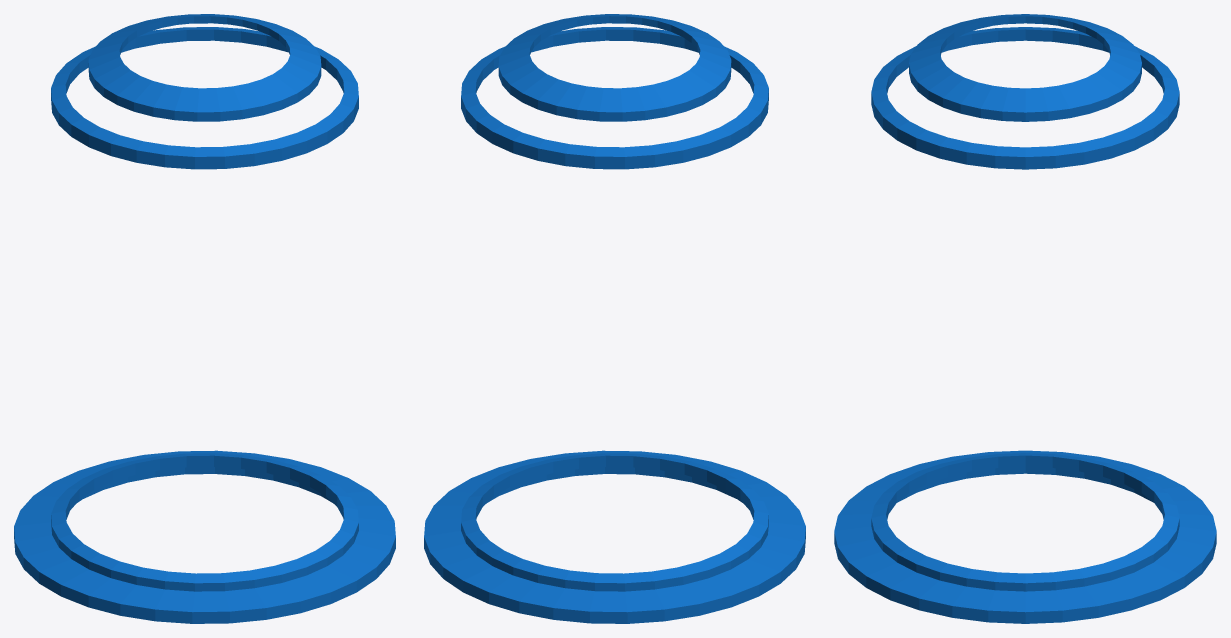
The model's file is markerMove.fbx.
3 renders of one model, left to right at view 1: azimuth 30°, elevation 25°; view 2: azimuth 150°, elevation 25°; view 3: azimuth 270°, elevation 25°, orthographic.
Visible parts, largest first — view 1: Circle; view 2: Circle; view 3: Circle.
Boxes of the visible parts, x1,y1,x2,y2 form: Circle: (14, 14, 395, 623); Circle: (424, 14, 805, 623); Circle: (834, 14, 1216, 623).
Bounding box in the file's own units: 781 × 1105 × 781.
